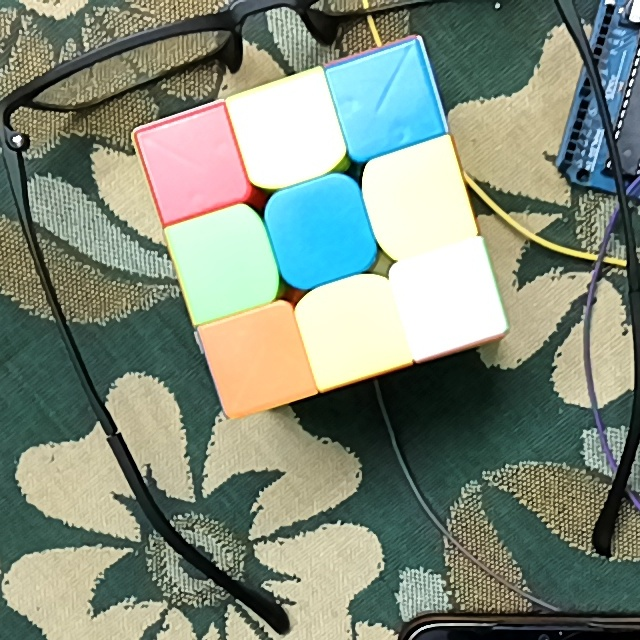tile: (380, 160, 456, 240), (283, 195, 360, 270), (186, 227, 261, 303), (250, 94, 325, 169), (157, 127, 231, 201), (352, 65, 427, 136), (314, 294, 389, 363), (415, 258, 483, 334), (227, 321, 295, 396)
